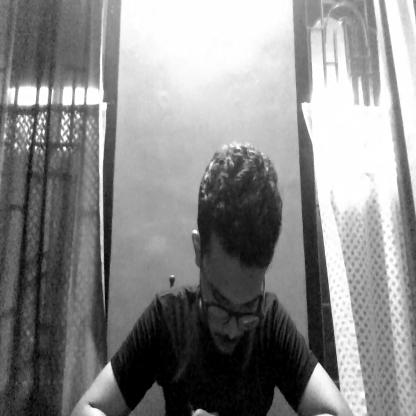Distracted: (190, 141, 274, 350)
